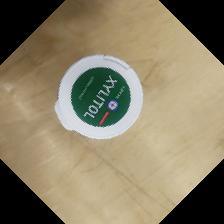Xylitol_green: (53, 53, 145, 140)
